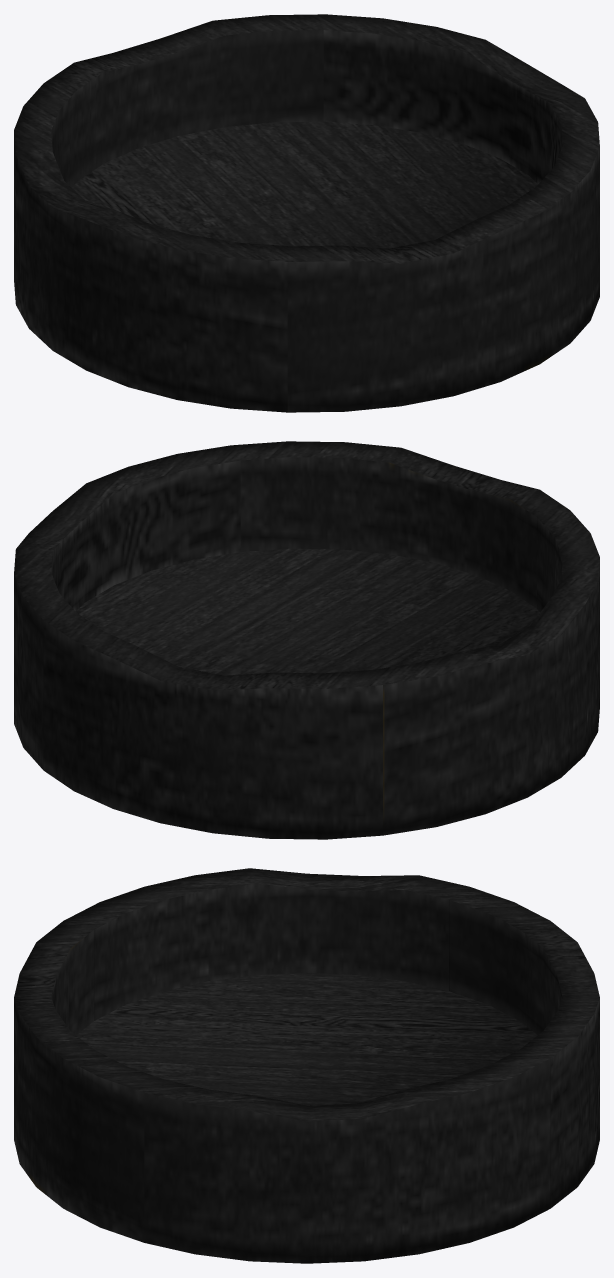
The model's file is ASHTRAY.fbx.
3 views of the same model, one above another, from view 1: azimuth 30°, elevation 25°; view 2: azimuth 150°, elevation 25°; view 3: azimuth 270°, elevation 25° (orthographic).
Parts seen in each view (by area): view 1: ASHTRAY; view 2: ASHTRAY; view 3: ASHTRAY.
Part boxes in pixels (x1=…): ASHTRAY: x1=14, y1=14, x2=599, y2=412; ASHTRAY: x1=14, y1=441, x2=599, y2=839; ASHTRAY: x1=14, y1=868, x2=599, y2=1263.
Size of the model in its own units: 0.1946 by 0.1946 by 0.0551.
